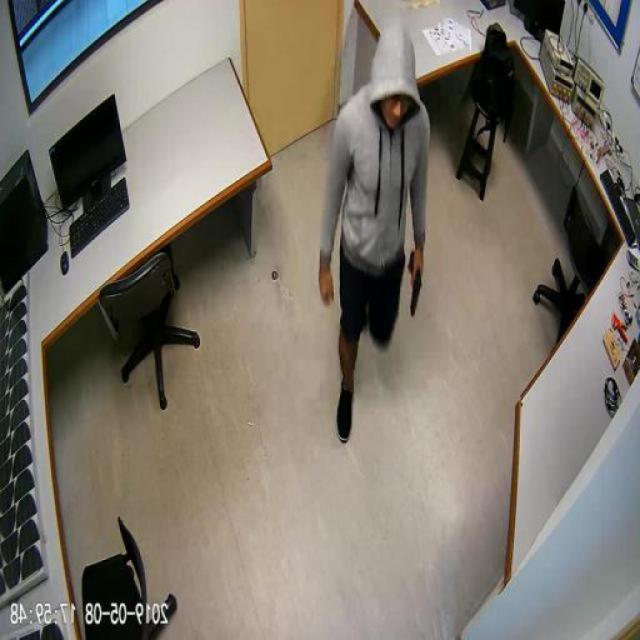pistol: (409, 248, 426, 316)
